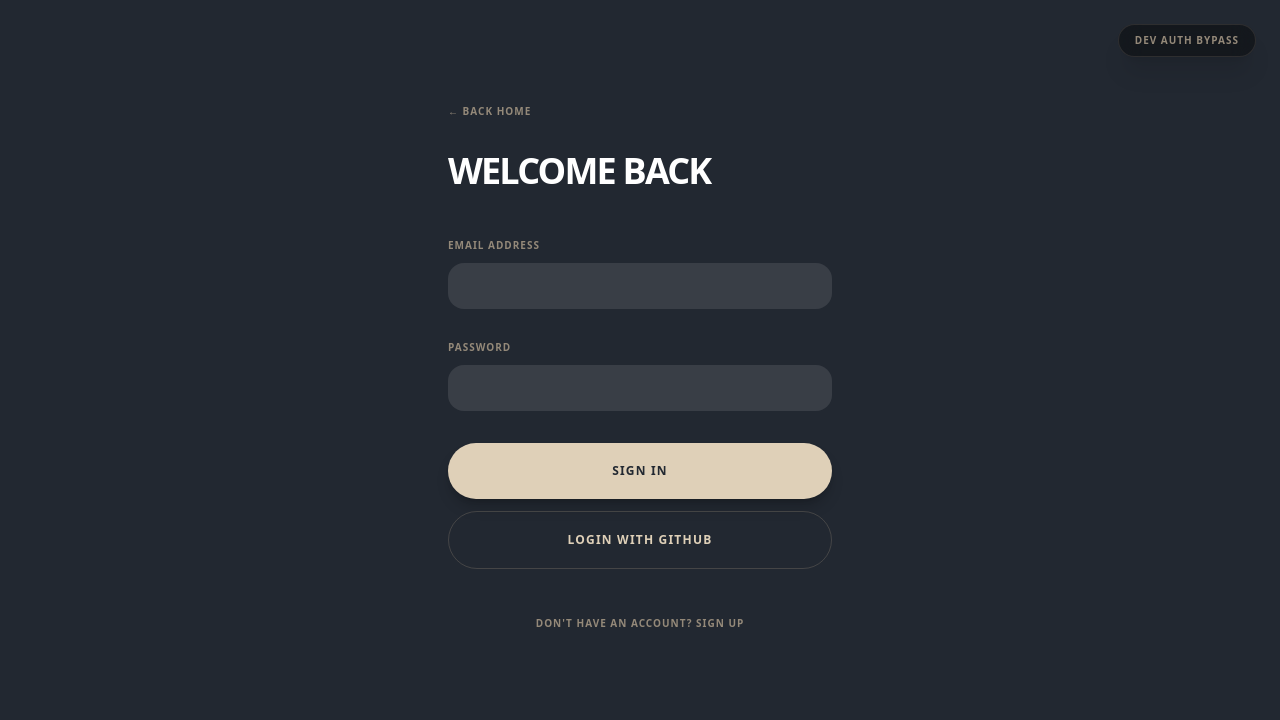
Dashboard Flows › should allow editing profile information
The image size is (1280, 720).
Click the button "Dev Auth Bypass".
click(1187, 41)  # box [1118, 24, 1256, 57]
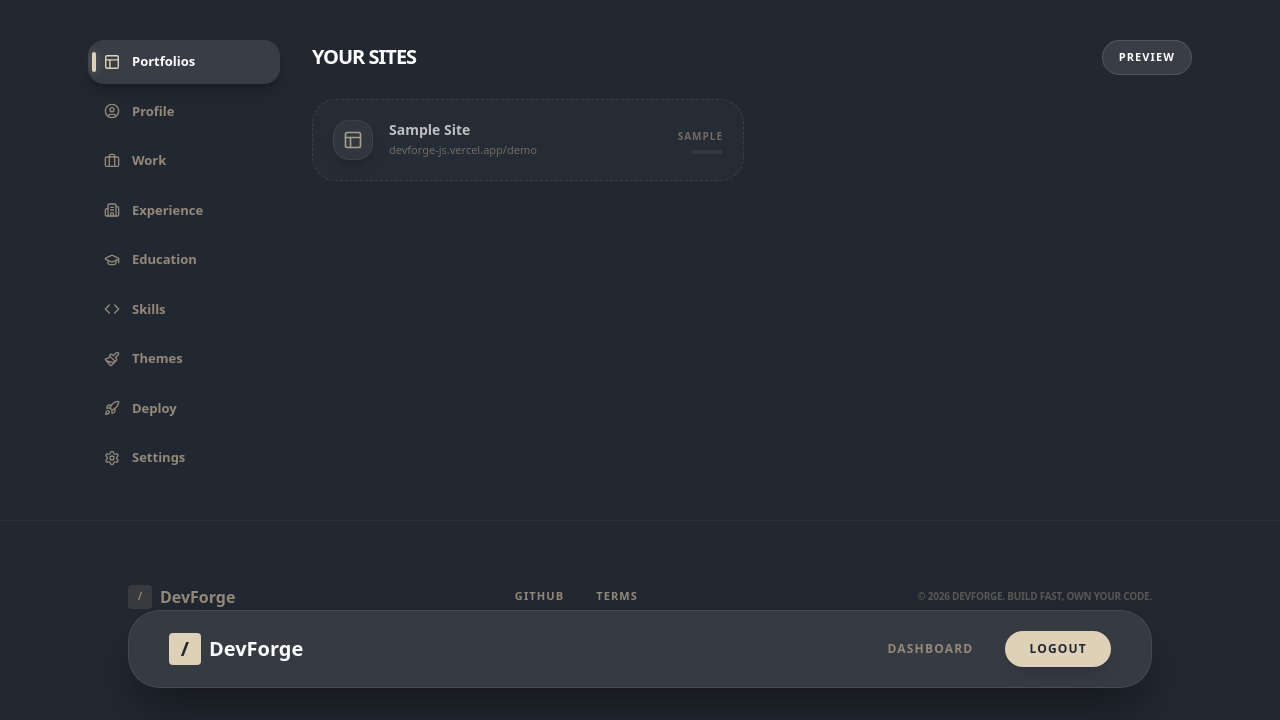
Click the button "Profile".
click(184, 112)  # box [88, 90, 280, 134]
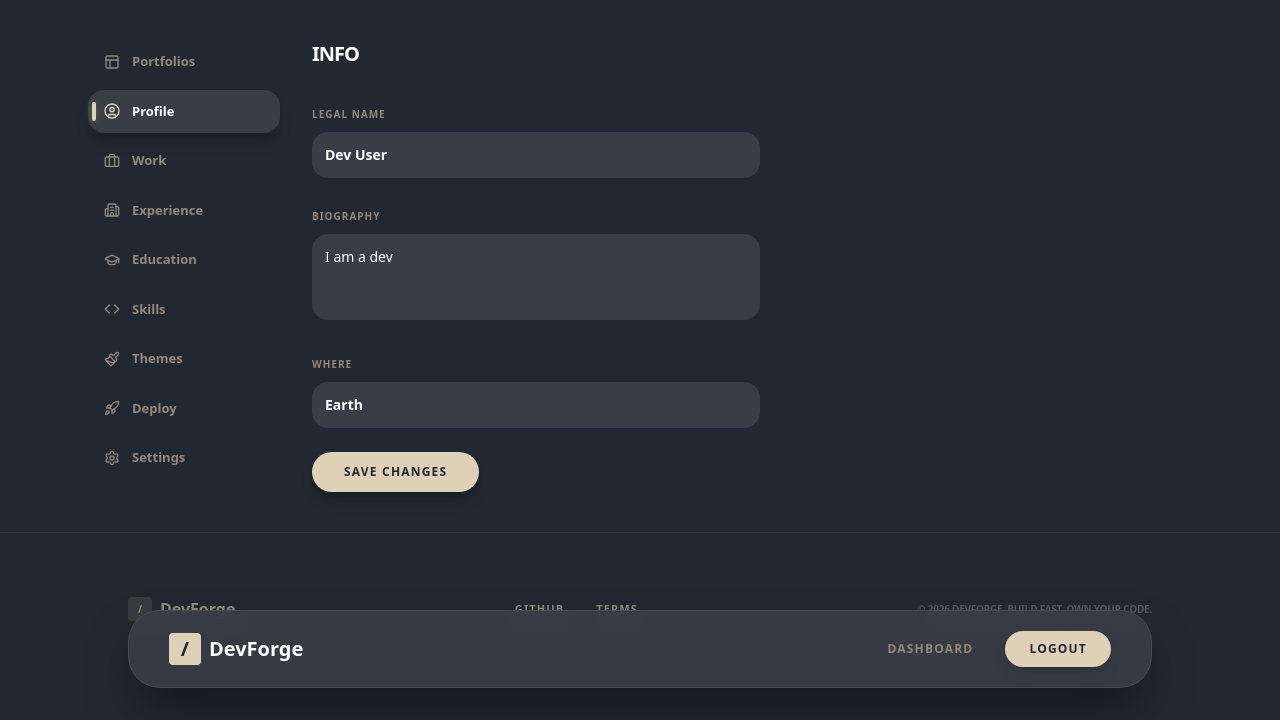
expect the field below "Legal Name" holds "Dev User": met
Replace the text in the field below "Legal Name" with "Updated Name" at (536, 155), box [312, 132, 760, 178]
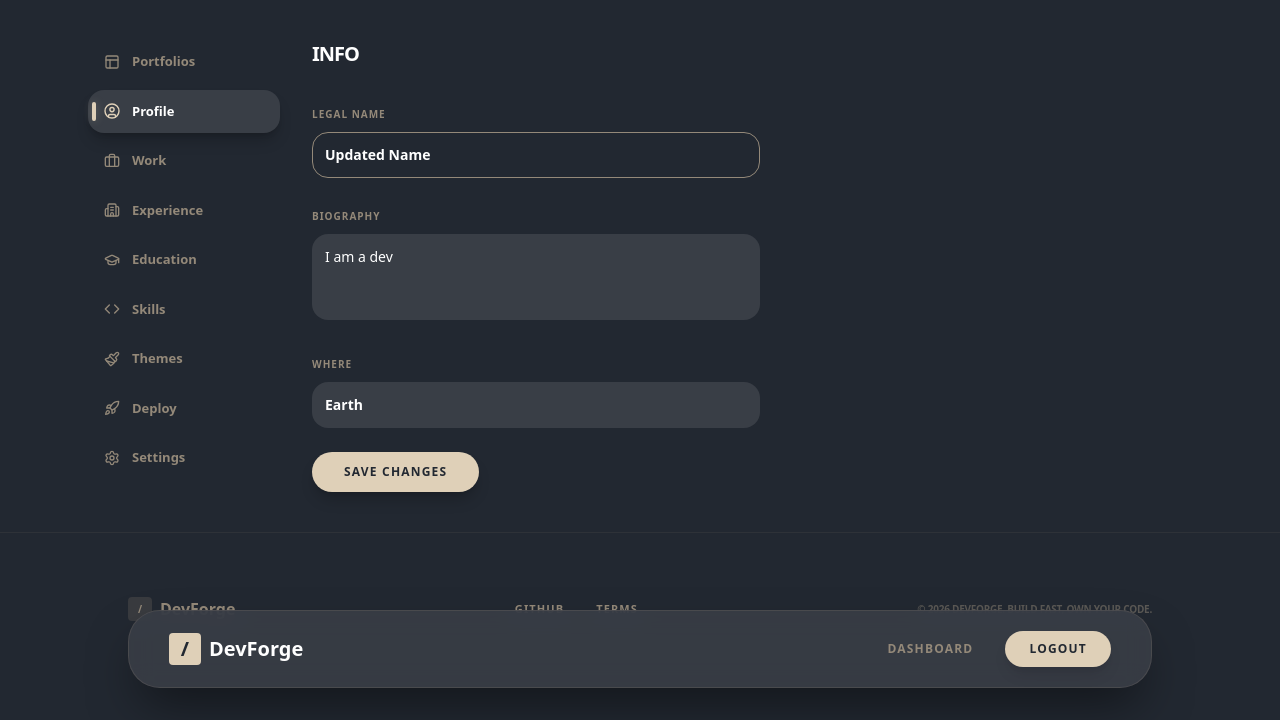
Replace the text in the text box with "New Bio" at (536, 277), box [312, 234, 760, 320]
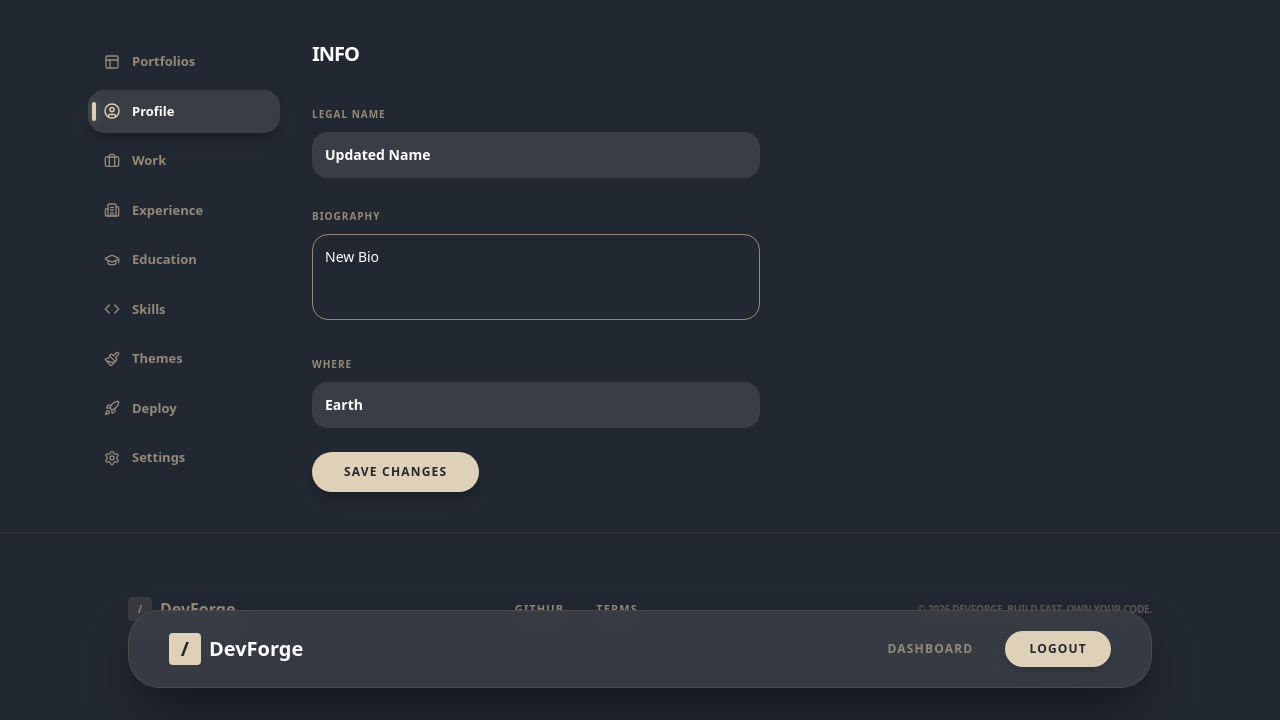
Click the button "Save Changes".
click(396, 472)  # box [312, 452, 479, 492]
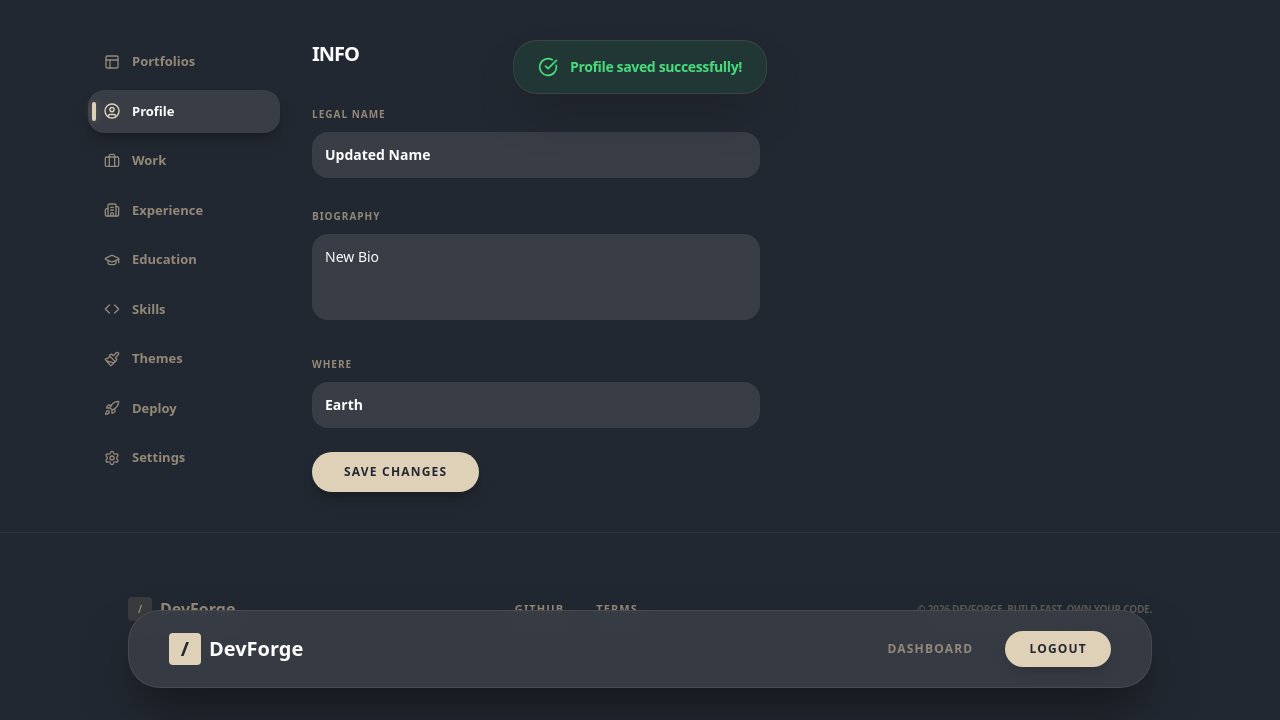
expect the text "Profile saved successfully" is shown: met, box [570, 57, 742, 76]
